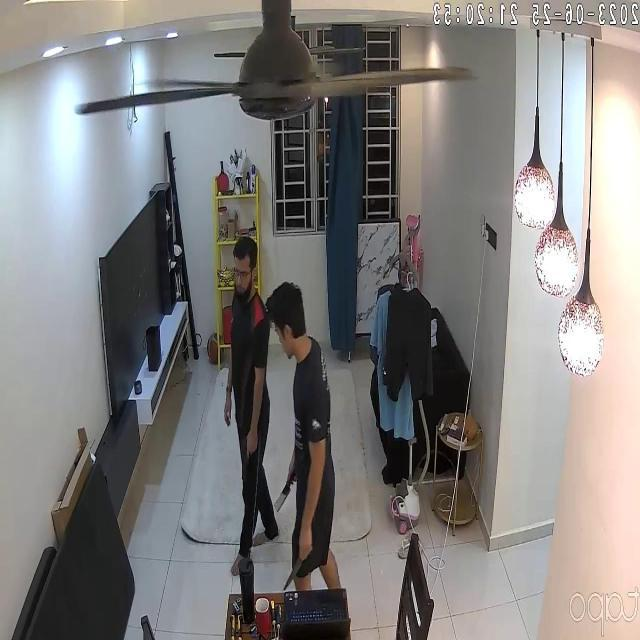Knife: (281, 550, 318, 590), (272, 463, 300, 515)
